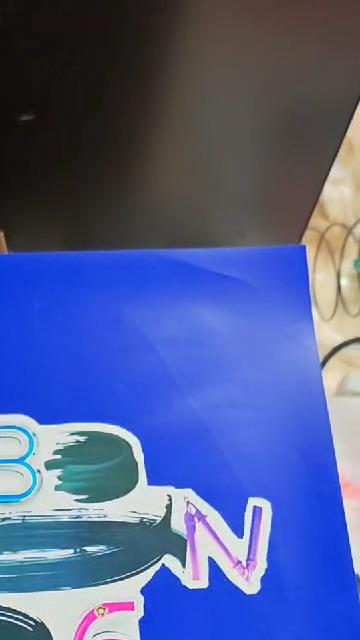B_R1: (0, 408, 312, 640)
